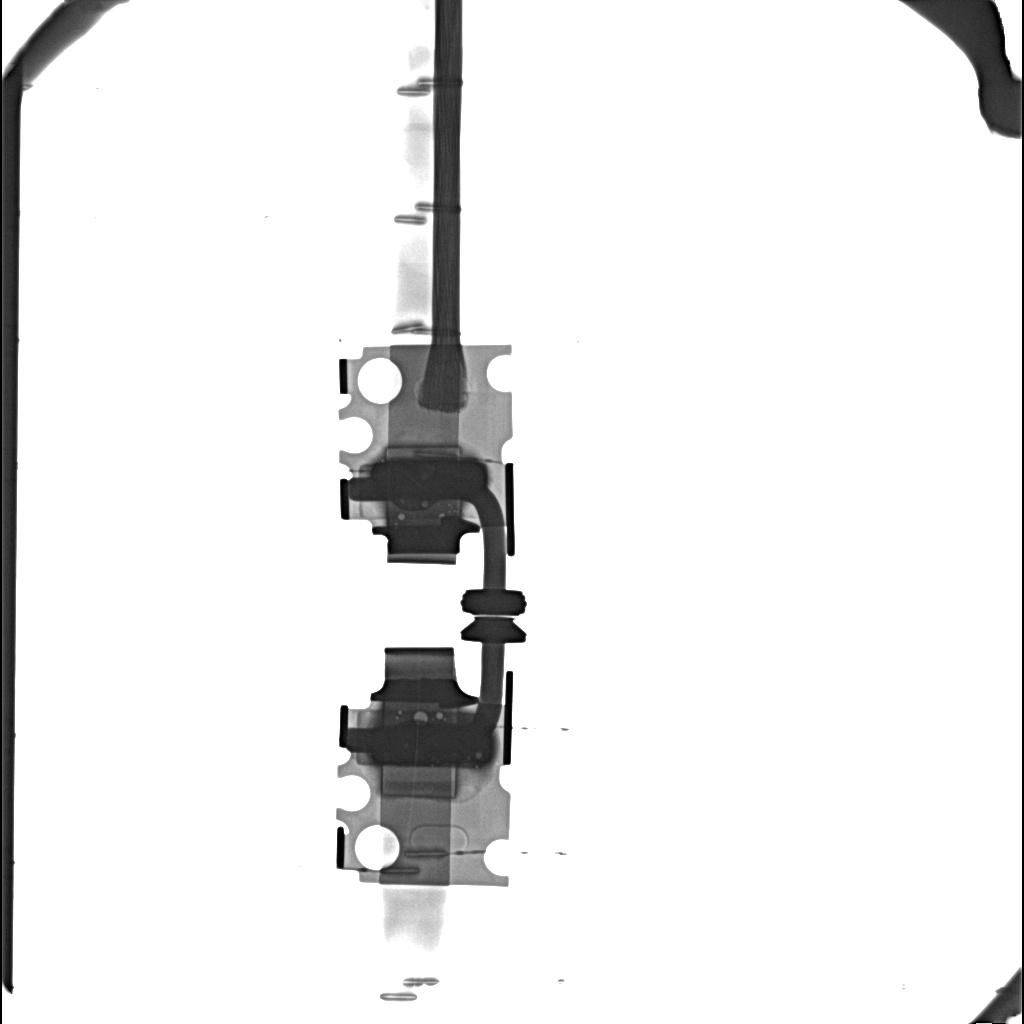defect: (368, 722, 494, 767), (373, 457, 489, 501), (379, 767, 458, 799), (384, 445, 462, 458), (414, 711, 427, 722), (436, 712, 444, 720), (397, 514, 405, 519)
